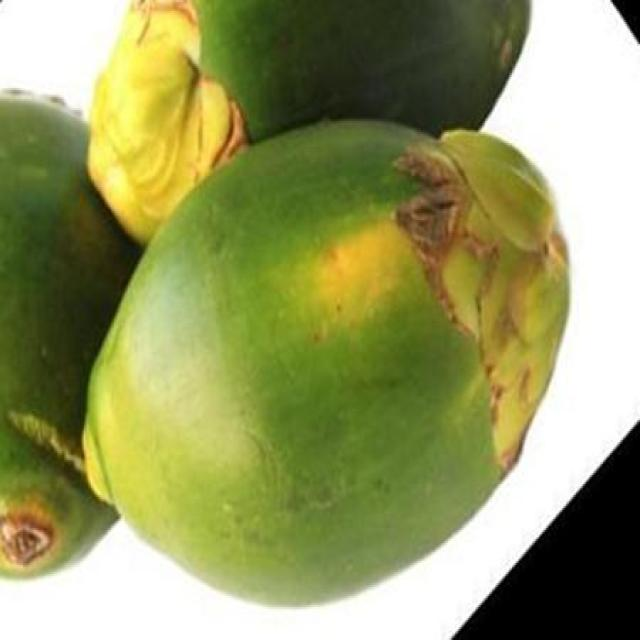good: (80, 119, 569, 609)
